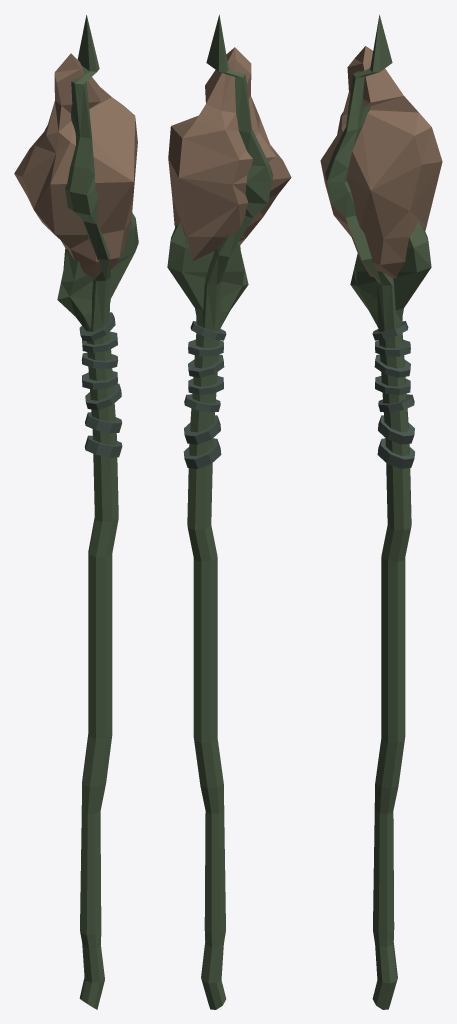
Rendered from cane-12.glb.
3 views of the same model, side by side, from view 1: azimuth 30°, elevation 25°; view 2: azimuth 210°, elevation 25°; view 3: azimuth 330°, elevation 25° (orthographic).
Visible parts, largest first — view 1: cane_12; view 2: cane_12; view 3: cane_12.
Part boxes in pixels (x1,y1,x2,y2): cane_12: (14,15,138,1009); cane_12: (167,14,291,1009); cane_12: (320,14,442,1009).
Size of the model in its own units: 21.87 by 192 by 19.09.
Materials: 1 (1 with a texture image).
